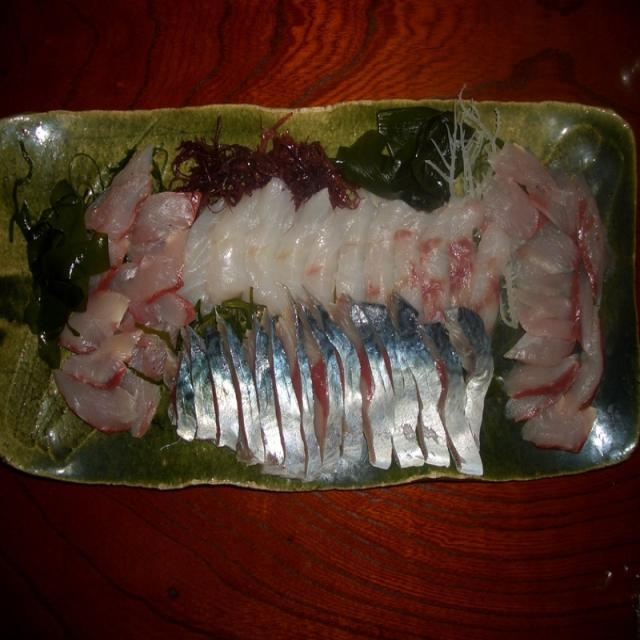刺身生食: (0, 86, 640, 500)
